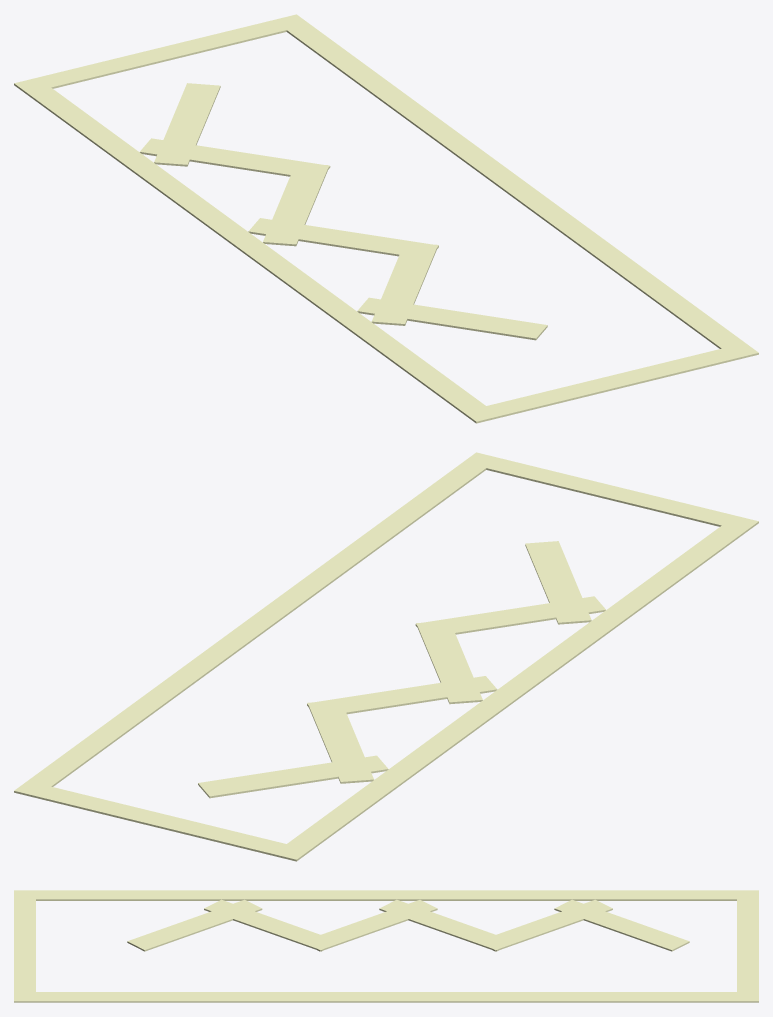
File: marking_separator_chevron_left_white.glb
3 views of the same model, one above another, from view 1: azimuth 30°, elevation 25°; view 2: azimuth 150°, elevation 25°; view 3: azimuth 270°, elevation 25° (orthographic). The views are drawn at different scales.
Visible parts, largest first — view 1: separator_chevron_left_left, separator_chevron_left_right, separator_chevron_left_bottom, separator_chevron_left_top, separator_chevron_left_upper_2, separator_chevron_left_upper_1, separator_chevron_left_lower_0, separator_chevron_left_upper_0, separator_chevron_left_lower_1, separator_chevron_left_lower_2; view 2: separator_chevron_left_left, separator_chevron_left_right, separator_chevron_left_top, separator_chevron_left_bottom, separator_chevron_left_lower_0, separator_chevron_left_lower_2, separator_chevron_left_upper_2, separator_chevron_left_upper_0, separator_chevron_left_lower_1, separator_chevron_left_upper_1; view 3: separator_chevron_left_right, separator_chevron_left_left, separator_chevron_left_top, separator_chevron_left_bottom, separator_chevron_left_upper_2, separator_chevron_left_upper_0, separator_chevron_left_upper_1, separator_chevron_left_lower_0, separator_chevron_left_lower_2, separator_chevron_left_lower_1.
Boxes of the visible parts, x1=… form: separator_chevron_left_left: x1=27, y1=87, x2=485, y2=413; separator_chevron_left_right: x1=286, y1=24, x2=744, y2=348; separator_chevron_left_bottom: x1=462, y1=343, x2=758, y2=423; separator_chevron_left_top: x1=14, y1=14, x2=309, y2=94; separator_chevron_left_upper_2: x1=357, y1=297, x2=547, y2=340; separator_chevron_left_upper_1: x1=248, y1=218, x2=438, y2=258; separator_chevron_left_lower_0: x1=154, y1=83, x2=220, y2=166; separator_chevron_left_upper_0: x1=140, y1=138, x2=330, y2=178; separator_chevron_left_lower_1: x1=263, y1=162, x2=328, y2=246; separator_chevron_left_lower_2: x1=371, y1=242, x2=437, y2=325; separator_chevron_left_left: x1=287, y1=525, x2=745, y2=851; separator_chevron_left_right: x1=28, y1=462, x2=486, y2=786; separator_chevron_left_top: x1=14, y1=781, x2=310, y2=861; separator_chevron_left_bottom: x1=463, y1=452, x2=758, y2=532; separator_chevron_left_lower_0: x1=198, y1=755, x2=388, y2=798; separator_chevron_left_lower_2: x1=415, y1=596, x2=605, y2=637; separator_chevron_left_upper_2: x1=525, y1=541, x2=591, y2=624; separator_chevron_left_upper_0: x1=308, y1=700, x2=373, y2=783; separator_chevron_left_lower_1: x1=307, y1=676, x2=497, y2=716; separator_chevron_left_upper_1: x1=416, y1=620, x2=482, y2=704; separator_chevron_left_right: x1=36, y1=992, x2=736, y2=1002; separator_chevron_left_left: x1=36, y1=890, x2=736, y2=900; separator_chevron_left_top: x1=737, y1=890, x2=758, y2=1002; separator_chevron_left_bottom: x1=14, y1=890, x2=35, y2=1002; separator_chevron_left_upper_2: x1=127, y1=899, x2=262, y2=951; separator_chevron_left_upper_0: x1=478, y1=899, x2=612, y2=951; separator_chevron_left_upper_1: x1=303, y1=900, x2=437, y2=951; separator_chevron_left_lower_0: x1=554, y1=899, x2=689, y2=951; separator_chevron_left_lower_2: x1=204, y1=899, x2=326, y2=951; separator_chevron_left_lower_1: x1=379, y1=899, x2=503, y2=951.
Size of the model in its own units: 0.96 by 0.006 by 2.72.
